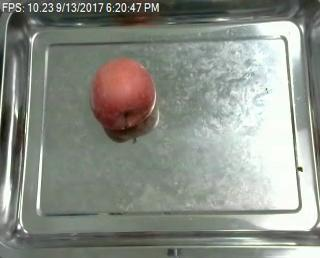apple: (88, 58, 157, 133)
